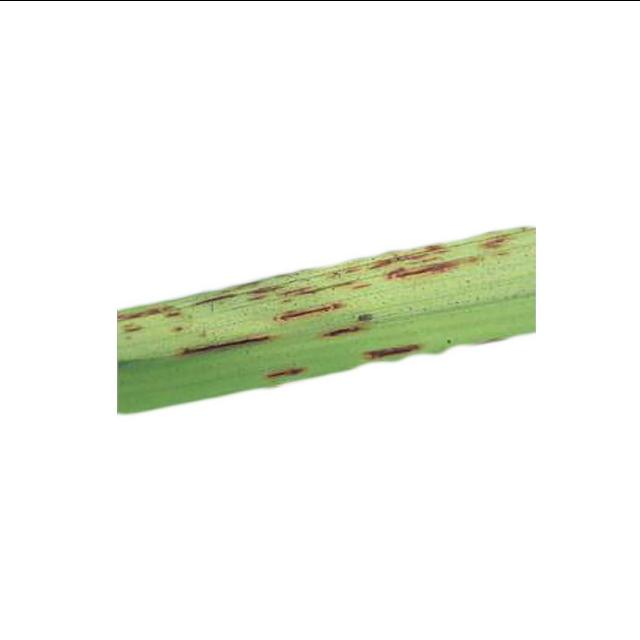Narrow brown: (84, 212, 550, 461)
